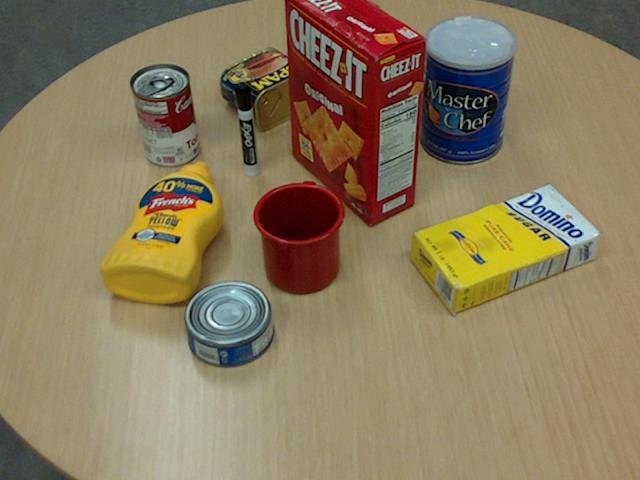cracker_box: (285, 0, 425, 222)
gelatin_box: (335, 47, 403, 106)
large_marker: (234, 83, 257, 177)
master_chef_can: (419, 16, 515, 165)
mug: (251, 181, 344, 293)
mustard_bottle: (99, 161, 223, 302)
potted_meat_can: (220, 47, 320, 129)
sugar_box: (409, 184, 601, 315)
tomato_soup_can: (130, 62, 198, 165)
tuna_fish_can: (183, 281, 273, 367)
